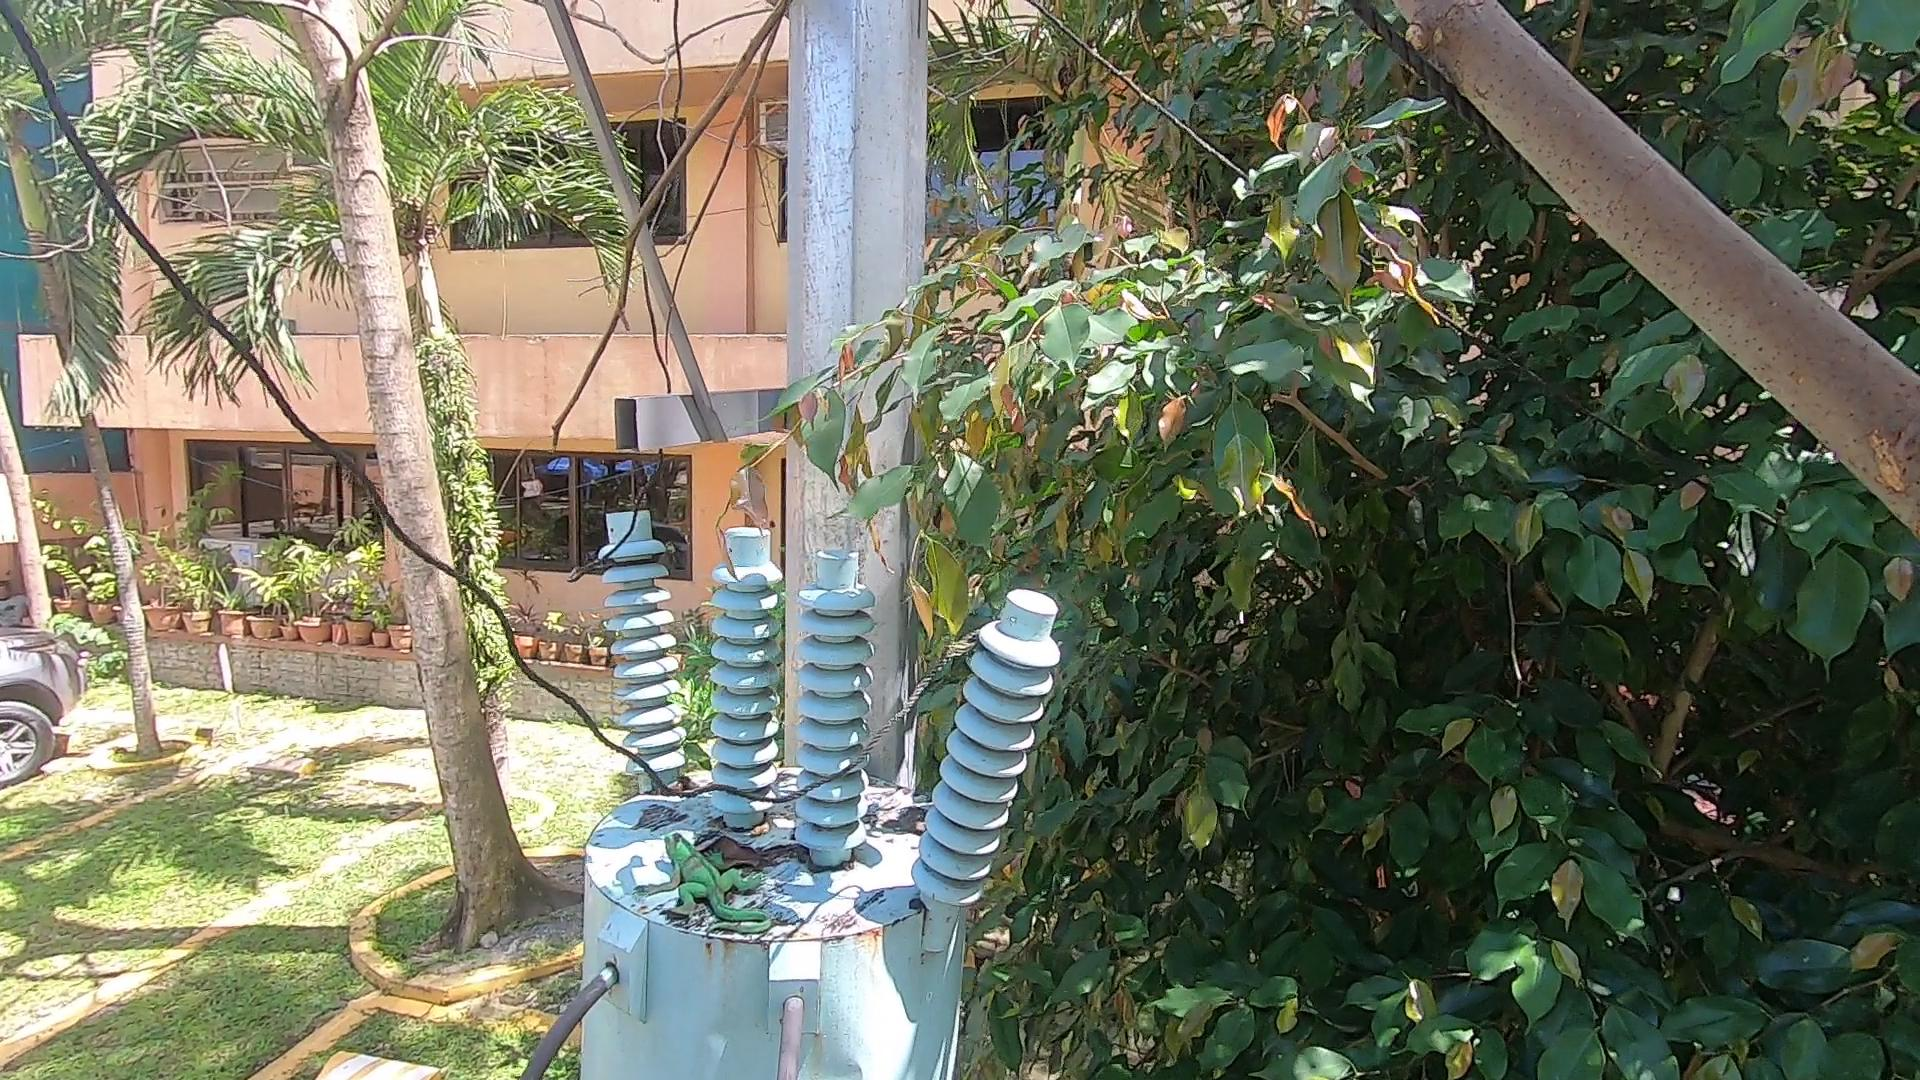branch with leaves: (723, 309, 1122, 595)
leaf: (694, 816, 820, 890), (881, 799, 928, 847), (666, 761, 694, 803)
tree branch: (1354, 11, 1912, 509)
